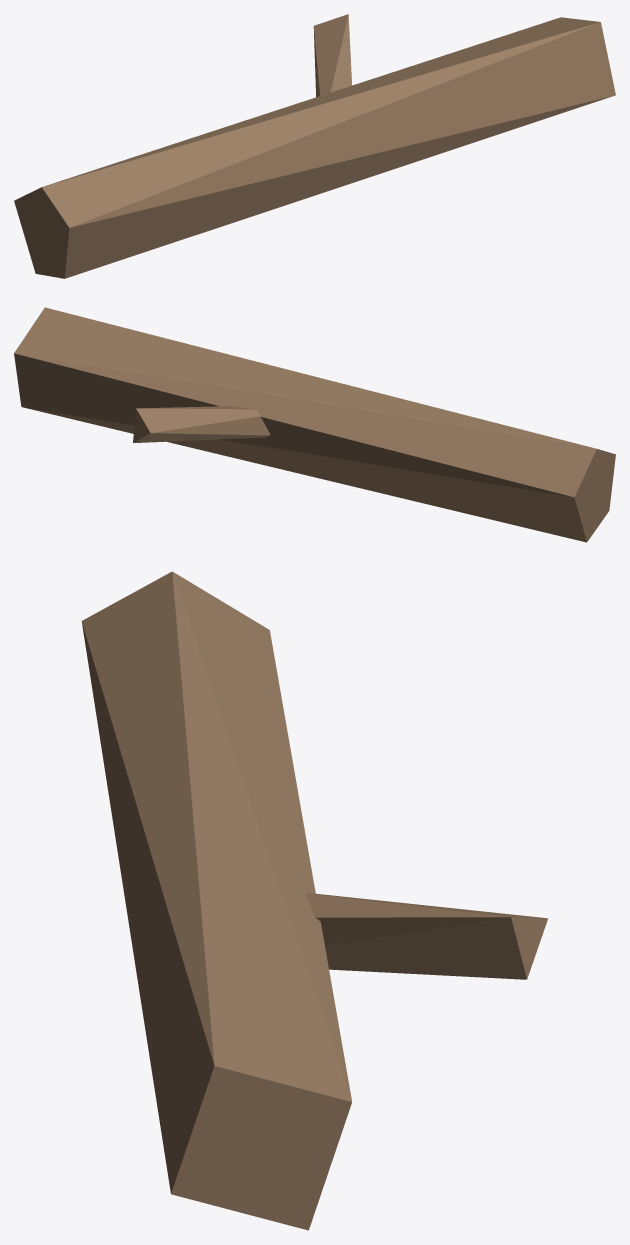
File: beach.driftwood.lod1.glb
3 renders of one model, top to bottom at view 1: azimuth 30°, elevation 25°; view 2: azimuth 150°, elevation 25°; view 3: azimuth 270°, elevation 25°, orthographic. The views are drawn at different scales.
Parts seen in each view (by area): view 1: Trunk, Branch; view 2: Trunk, Branch; view 3: Trunk, Branch.
Boxes of the visible parts, left/top/right/bottom form: Trunk: left=14, top=17, right=615, bottom=278; Branch: left=313, top=14, right=351, bottom=97; Trunk: left=14, top=307, right=615, bottom=542; Branch: left=133, top=406, right=270, bottom=442; Trunk: left=81, top=571, right=351, bottom=1230; Branch: left=305, top=893, right=547, bottom=979.
Size of the model in its own units: 2.84 by 0.5232 by 1.05.
